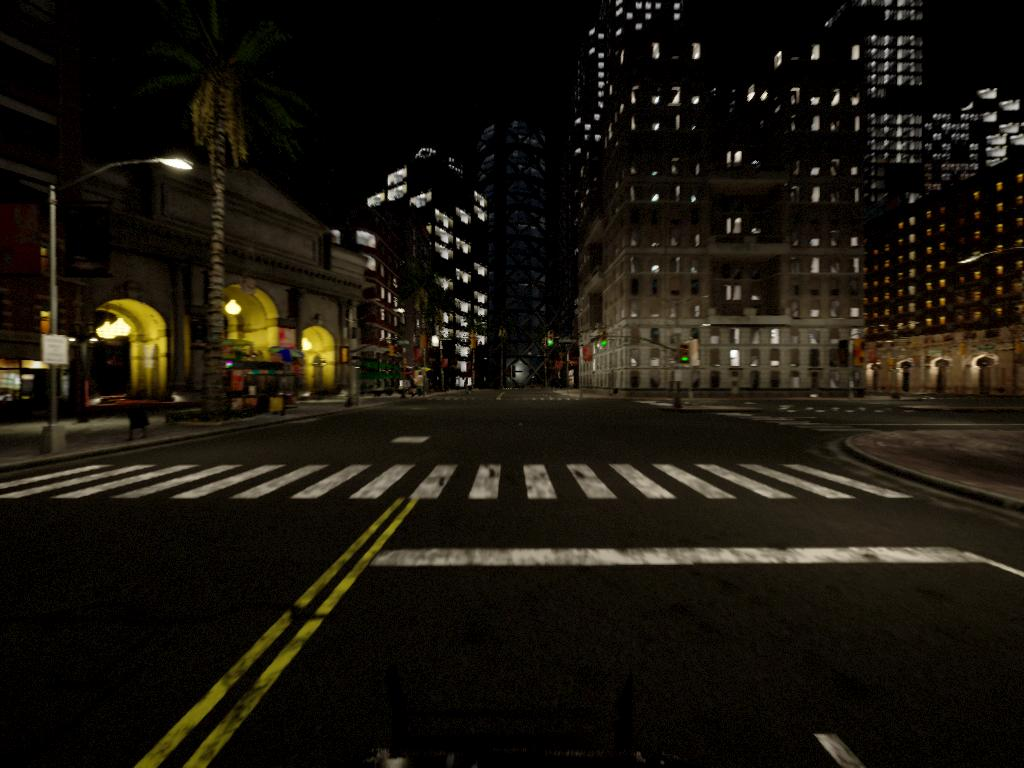traffic_light: (675, 345, 694, 367), (601, 332, 610, 351), (547, 331, 556, 349)
